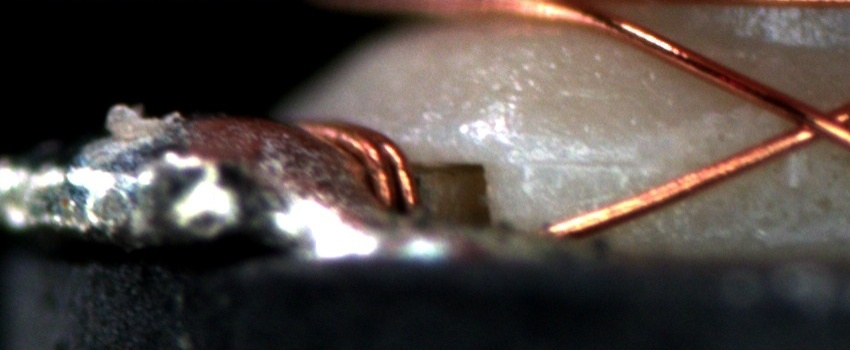CL: (765, 89, 846, 157)
DL: (531, 134, 642, 193)
TE: (302, 116, 420, 215)
